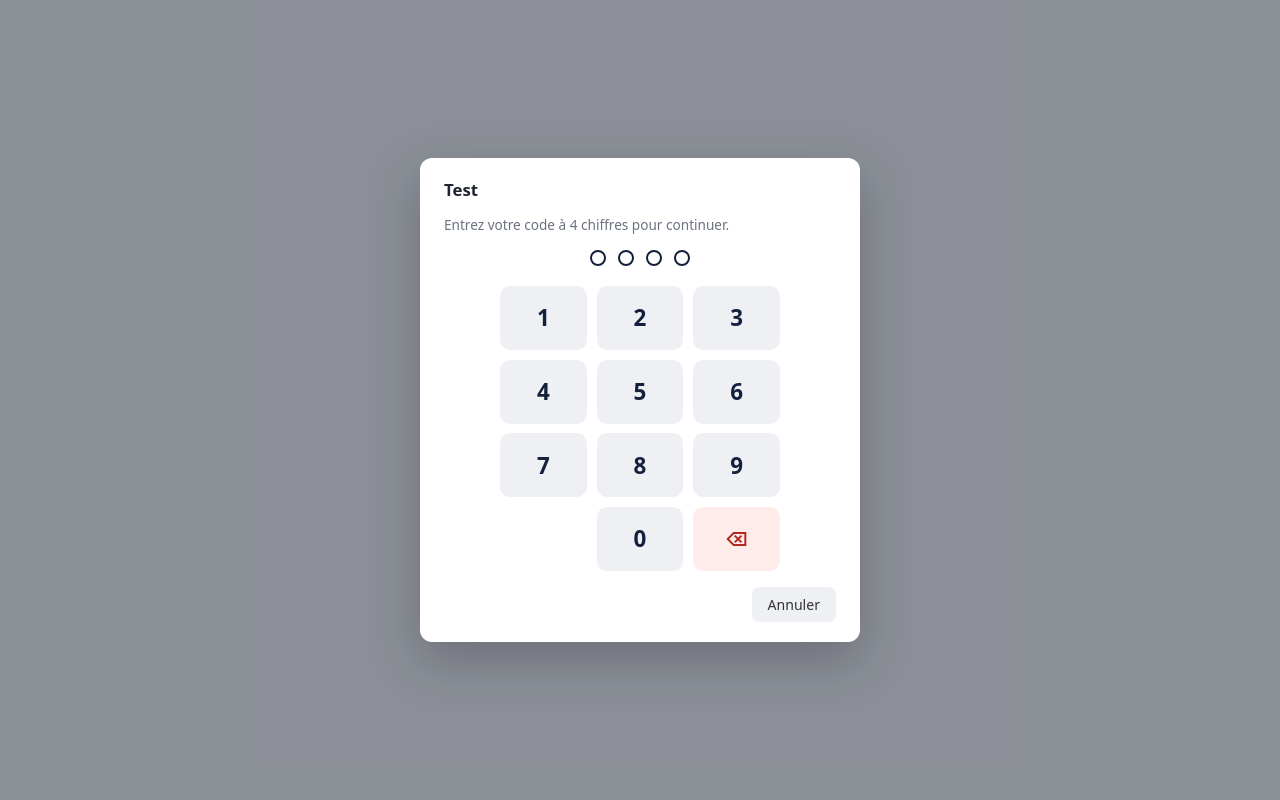
Test: PinConfirm › affiche le message de verrouillage sans pavé numérique (D6)
The image size is (1280, 800).
Click the button "0" at (640, 539), box [596, 507, 683, 571]
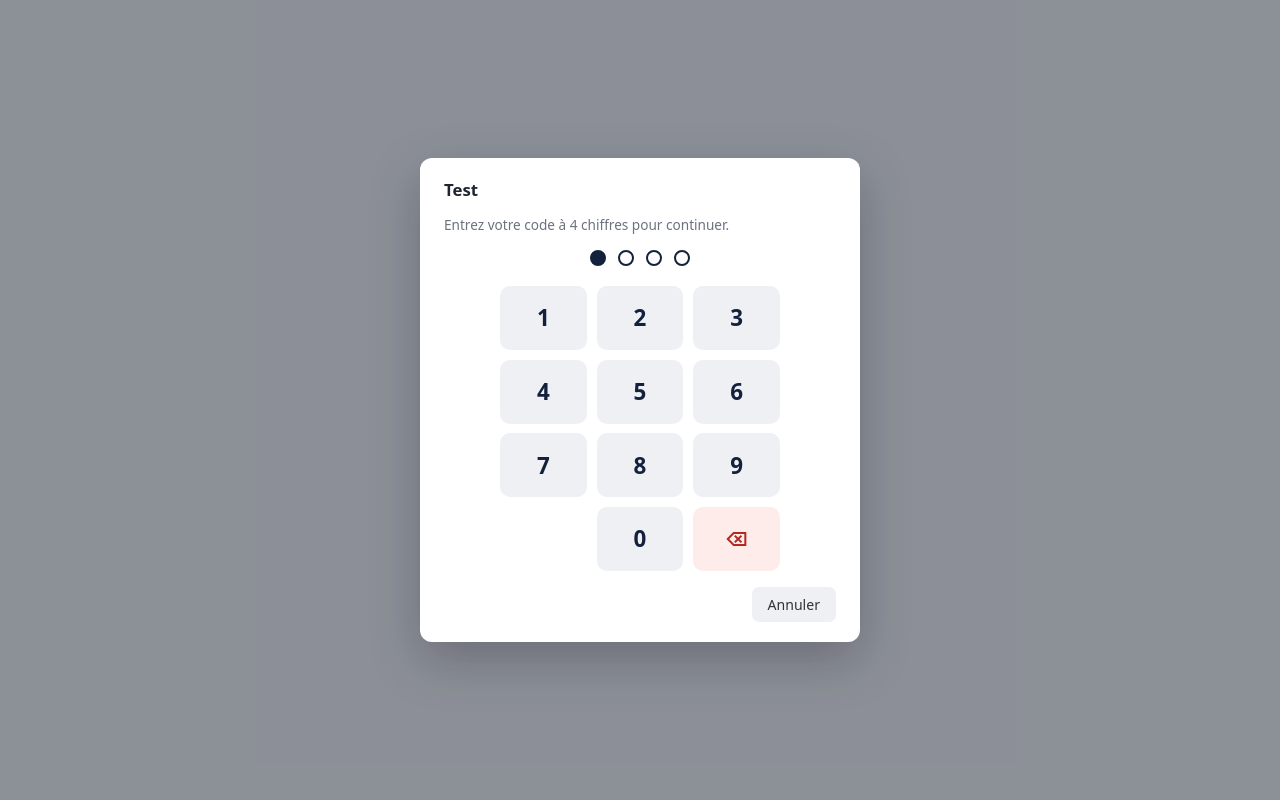
Click the button "0" at (640, 539), box [596, 507, 683, 571]
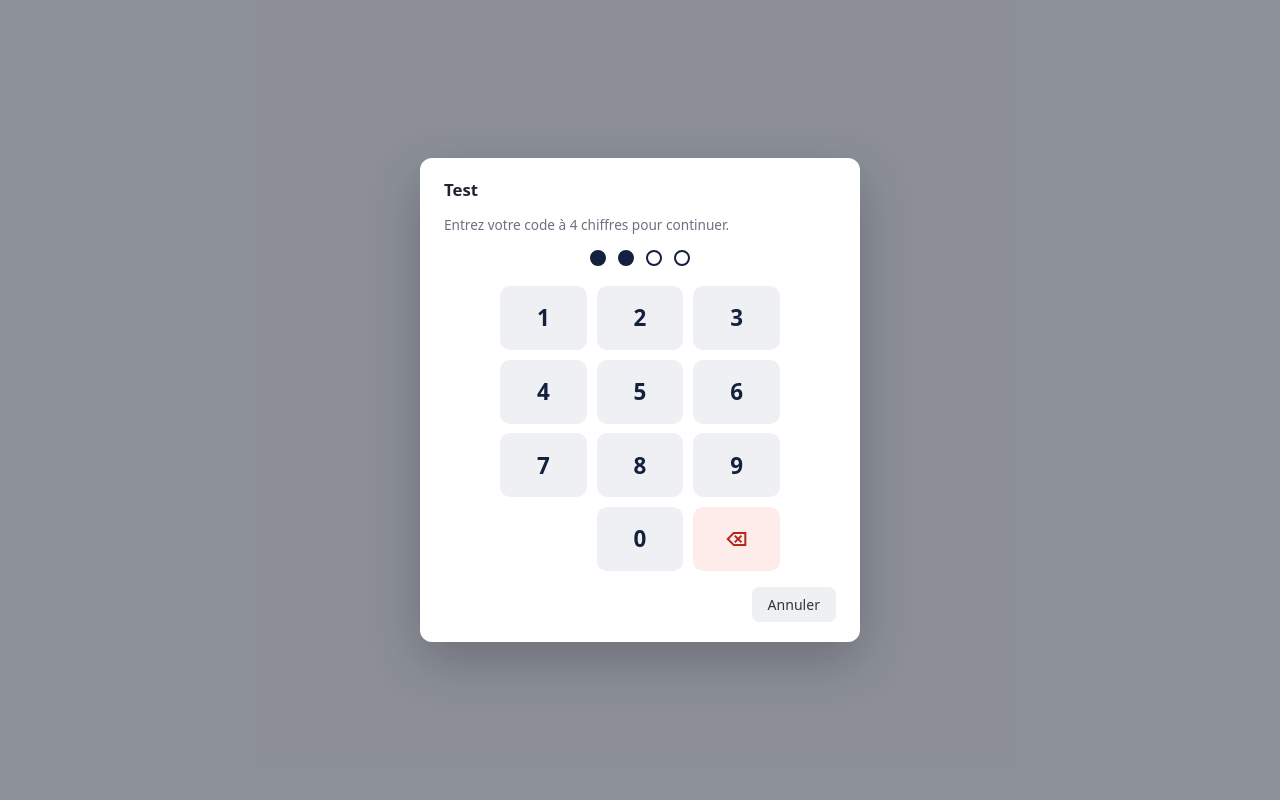
Click the button "0" at (640, 539), box [596, 507, 683, 571]
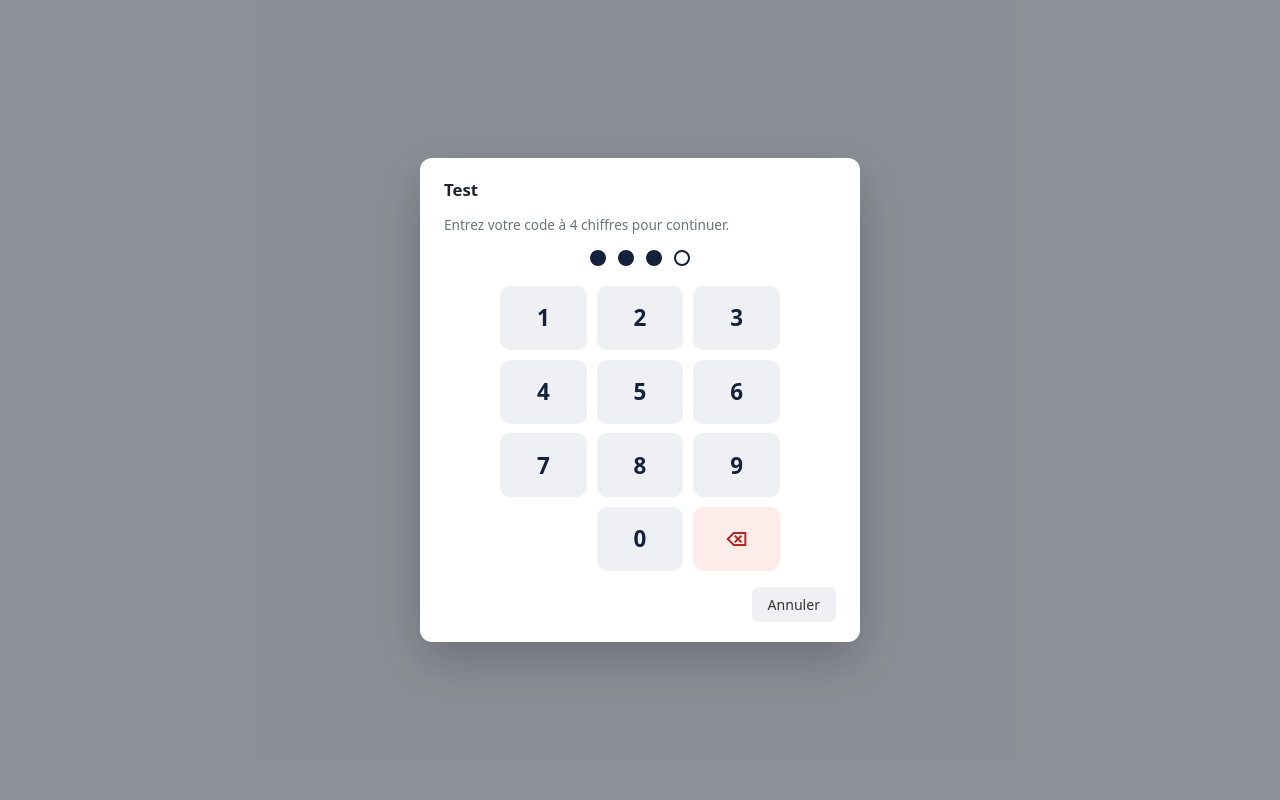
Click the button "0" at (640, 539), box [596, 507, 683, 571]
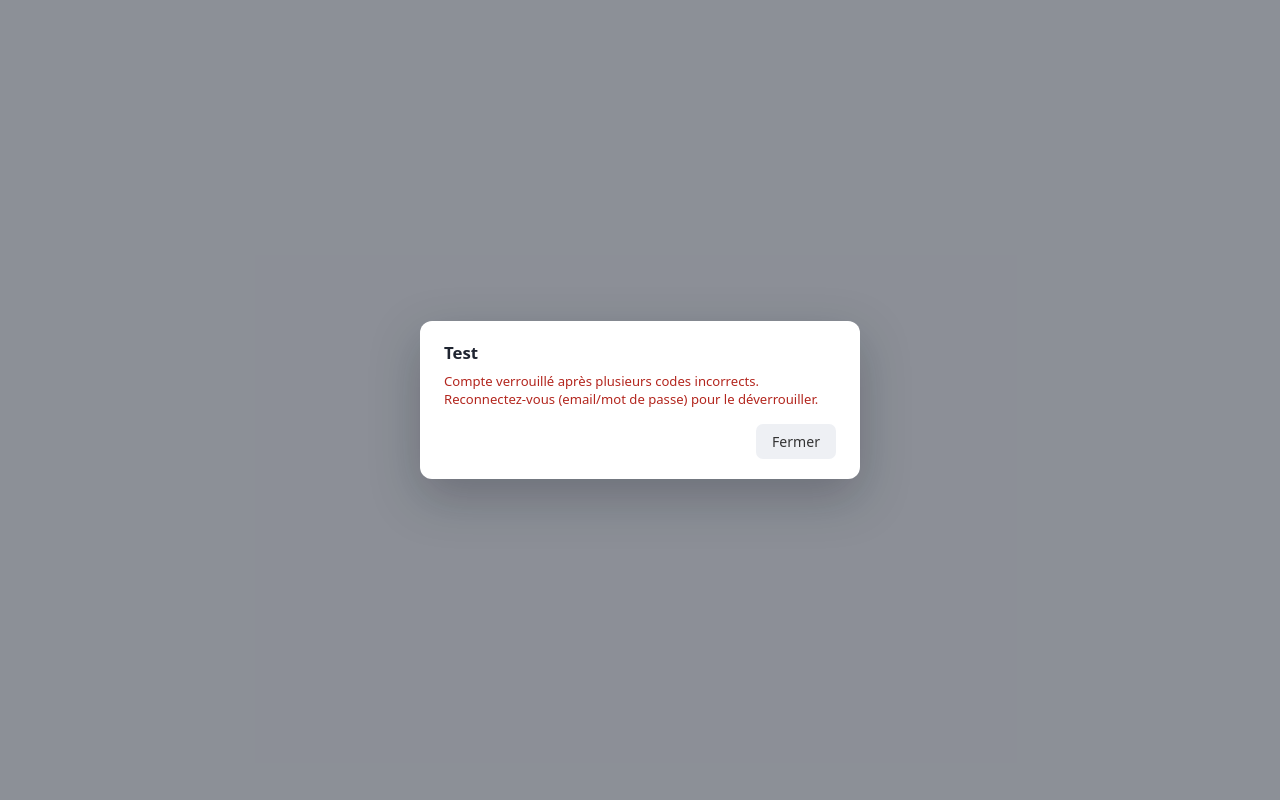
Expected: the text "Compte verrouillé" is shown, [444, 372, 818, 408]
Expected: the button "1" is gone
